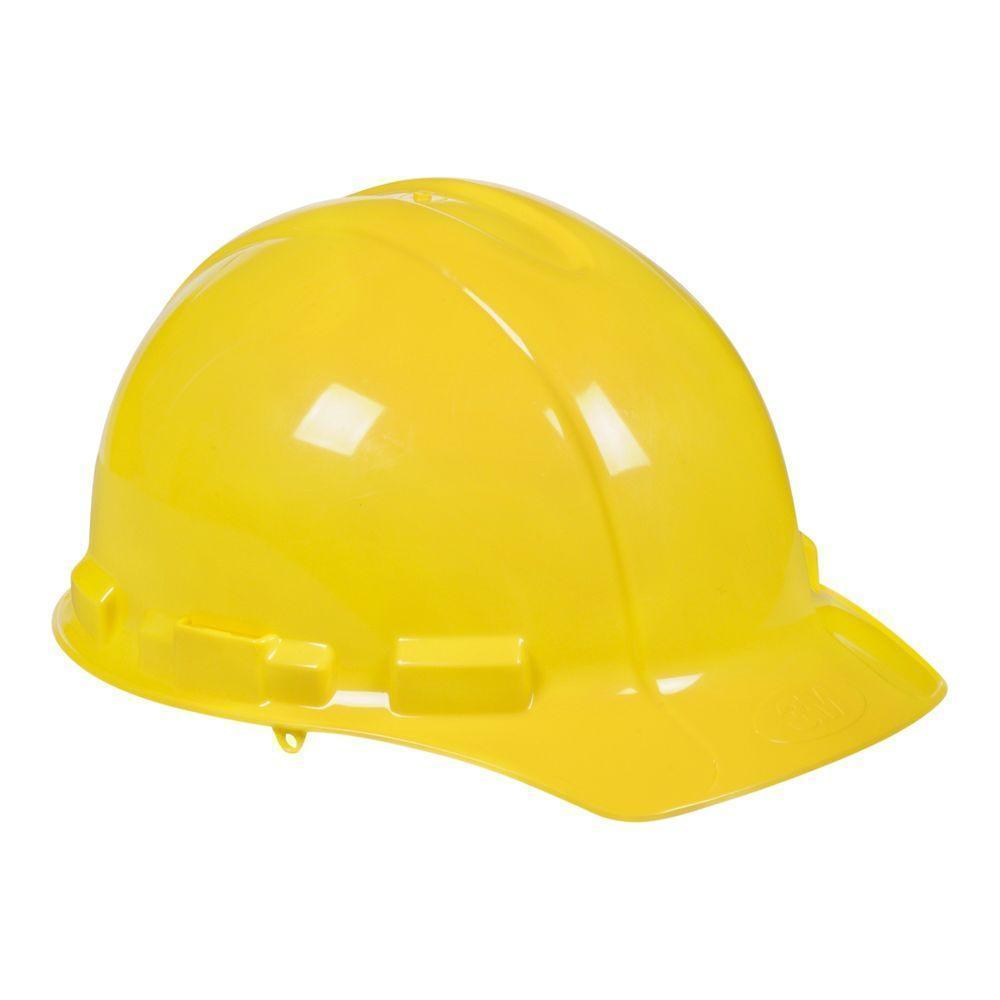helmet: (58, 164, 955, 828)
